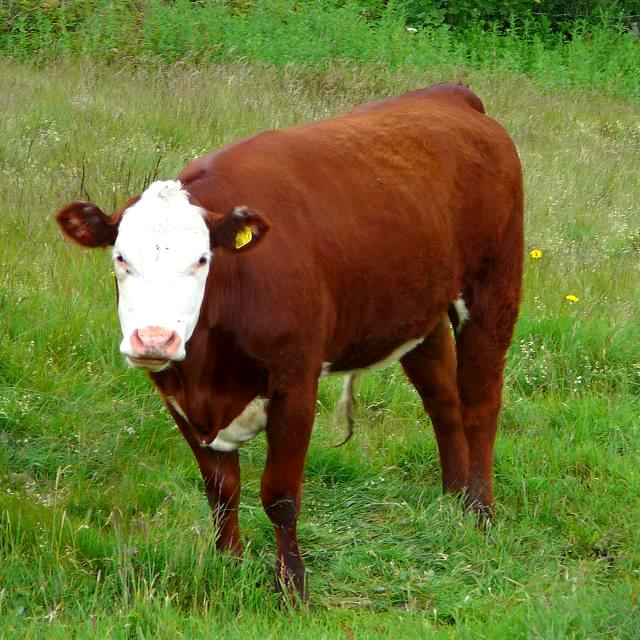COW: (56, 82, 524, 598)
